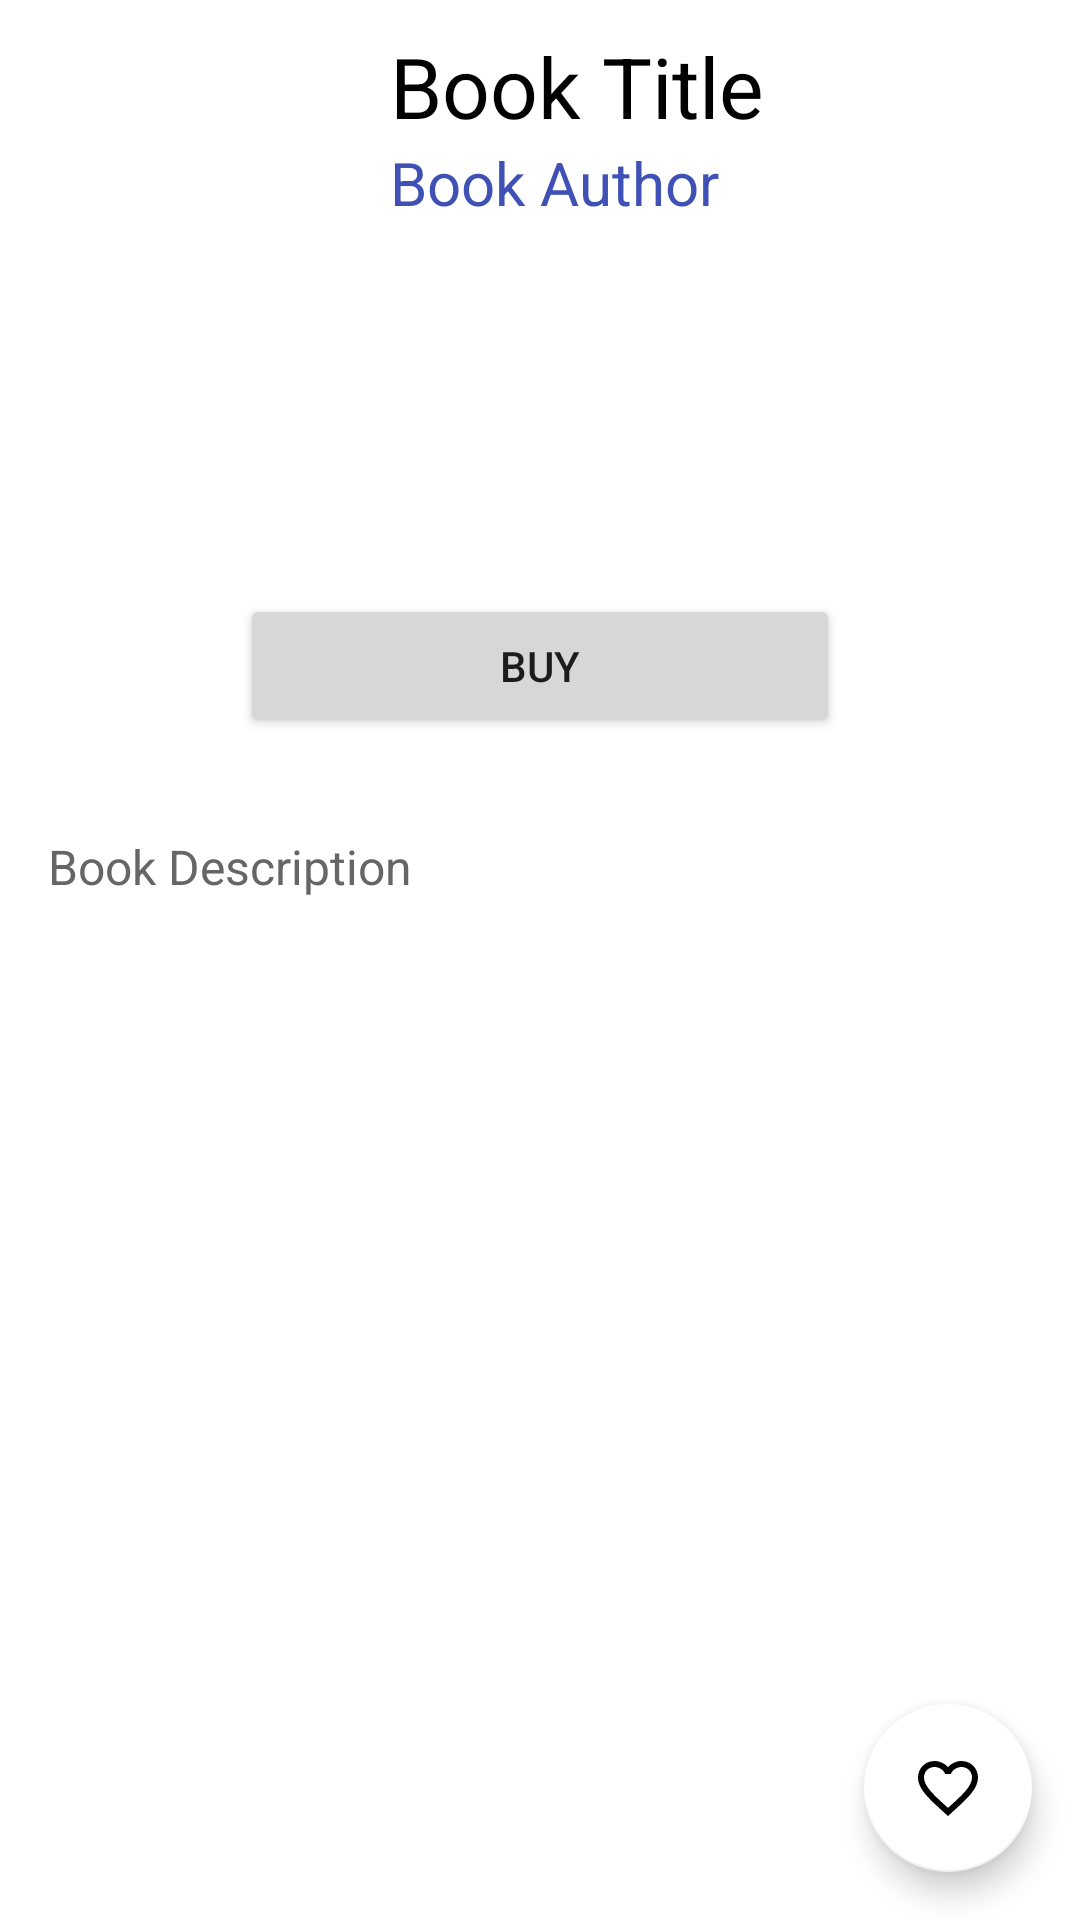

Icon click points for this 1080 × 1920 phone screenshot, format (x=x, y=y):
favorite border: (x=950, y=1816)
